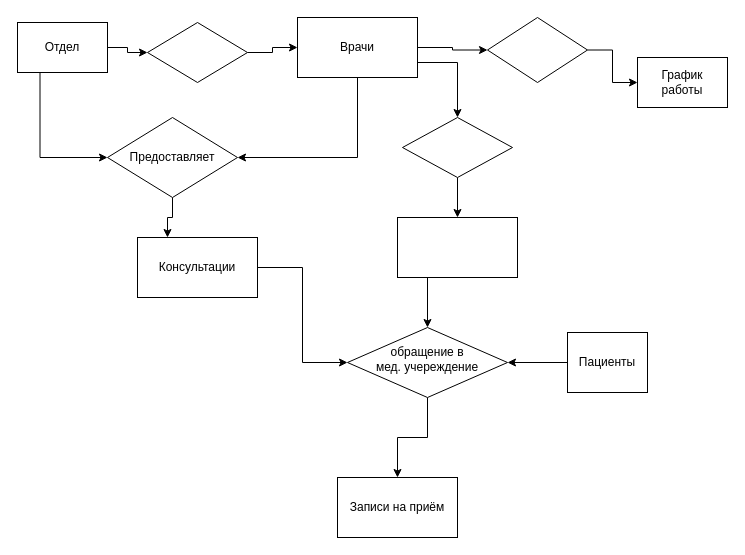
Image size: 745x555. Some labels were removed from this diagram. The shapes that lost their labels are listed below. From the top down, each one's centre as x and y in pixels, then its label:
At (x=197, y=52): "Включает в себя".
At (x=537, y=49): "Работает согласно".
At (x=457, y=147): "Принимает согласно".
At (x=457, y=247): "Расписание приёмов".
